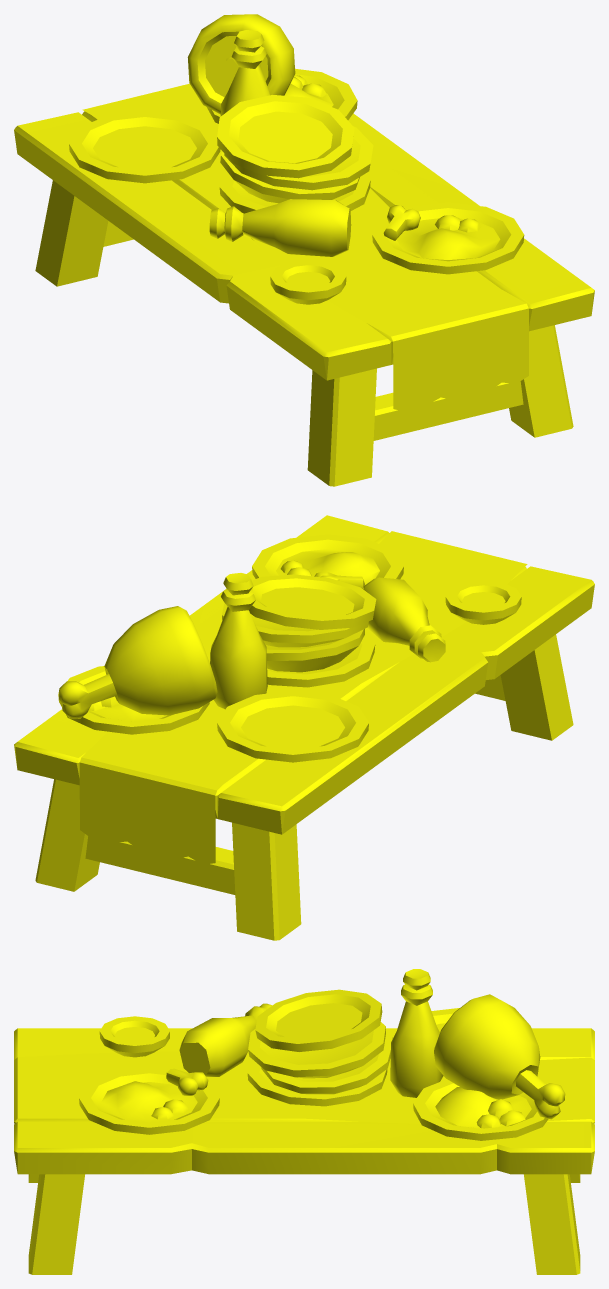
Rendered from kaykit-table-long-tablecloth-decorated-a.glb.
3 views of the same model, one above another, from view 1: azimuth 30°, elevation 25°; view 2: azimuth 150°, elevation 25°; view 3: azimuth 270°, elevation 25° (orthographic). The views are drawn at different scales.
Parts seen in each view (by area): view 1: table_long_tablecloth_decorated_A; view 2: table_long_tablecloth_decorated_A; view 3: table_long_tablecloth_decorated_A.
Boxes of the visible parts, bbox=[...] form: table_long_tablecloth_decorated_A: bbox=[14, 14, 594, 486]; table_long_tablecloth_decorated_A: bbox=[14, 515, 594, 940]; table_long_tablecloth_decorated_A: bbox=[14, 969, 594, 1274].
Bounding box in the file's own units: 2.06 × 1.89 × 4.
